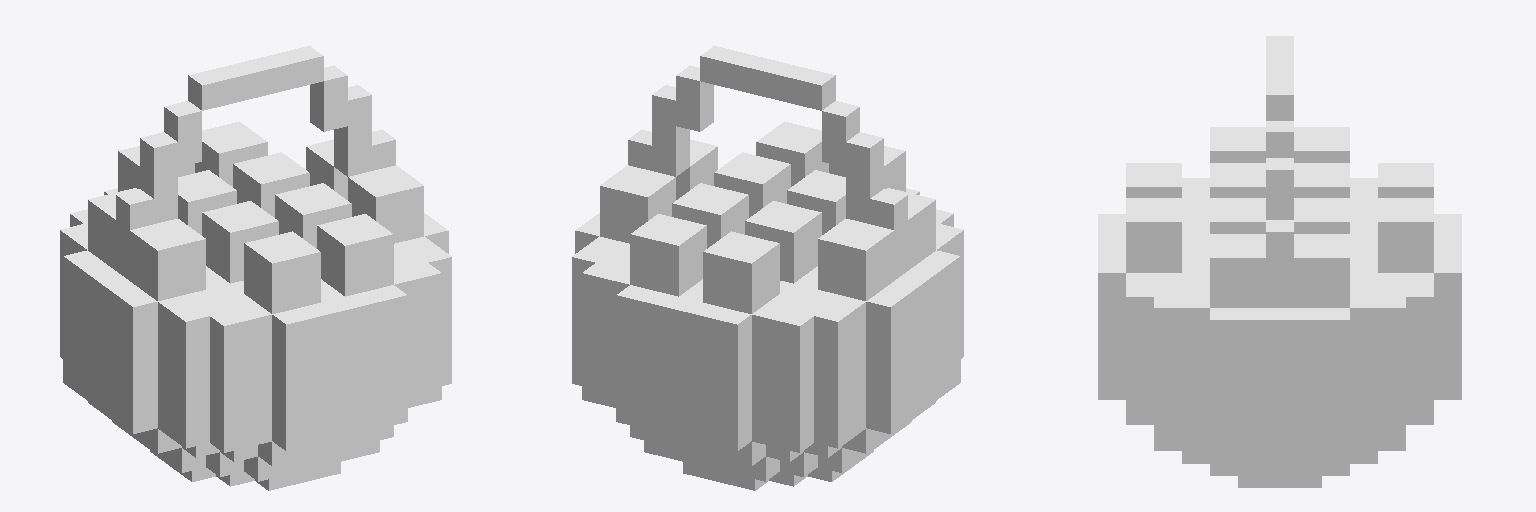
Rendered from Egg_Basket_Level_3.obj.
3 renders of one model, left to right at view 1: azimuth 30°, elevation 25°; view 2: azimuth 150°, elevation 25°; view 3: azimuth 270°, elevation 25°, orthographic.
Visible parts, largest first — view 1: Egg_Basket_Level_3; view 2: Egg_Basket_Level_3; view 3: Egg_Basket_Level_3.
Boxes of the visible parts, x1,y1,x2,y2 form: Egg_Basket_Level_3: [60, 46, 451, 490]; Egg_Basket_Level_3: [572, 46, 963, 490]; Egg_Basket_Level_3: [1098, 36, 1461, 487].
Bounding box in the file's own units: 13 × 15 × 13.